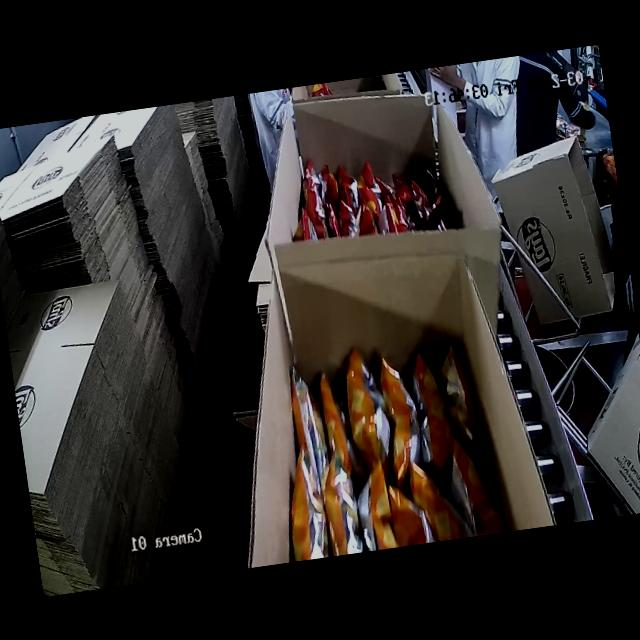cheese: (284, 332, 494, 558)
masala: (284, 142, 434, 243)
